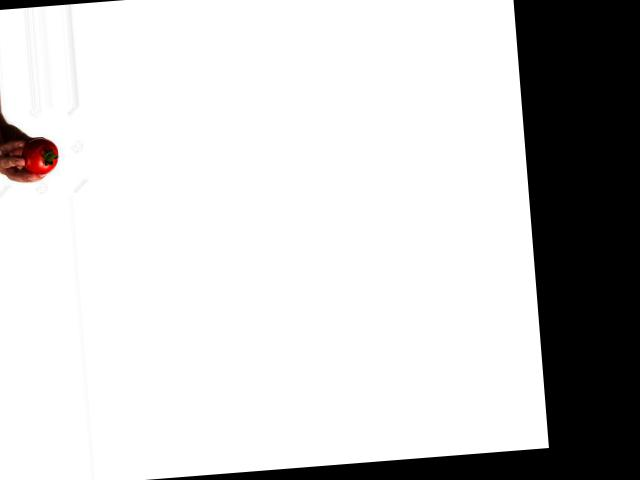tomato: (21, 136, 60, 175)
